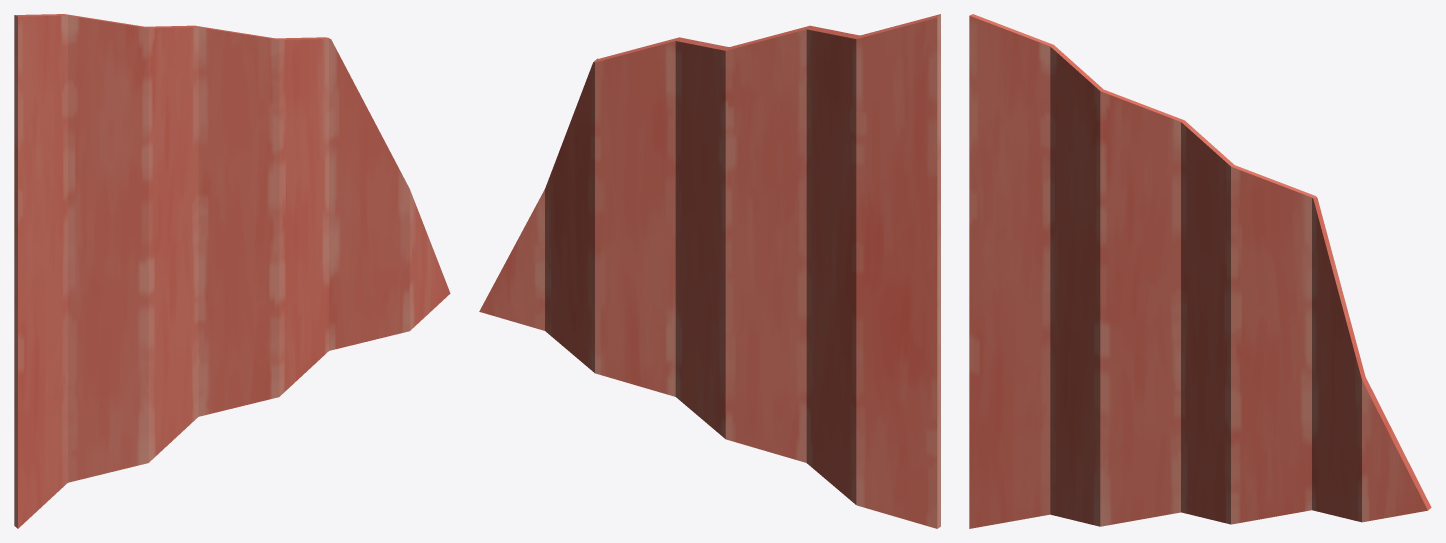
Rendered from cloth_s01.fbx.
The picture shows the model from 3 angles, left to right: view 1: azimuth 30°, elevation 25°; view 2: azimuth 150°, elevation 25°; view 3: azimuth 330°, elevation 25°; orthographic projection.
Parts seen in each view (by area): view 1: cloth_s01; view 2: cloth_s01; view 3: cloth_s01.
Part boxes in pixels (x1,y1,x2,y2): cloth_s01: [14, 14, 450, 528]; cloth_s01: [479, 14, 940, 528]; cloth_s01: [969, 14, 1431, 528].
Size of the model in its own units: 5 by 5.5 by 0.37.
